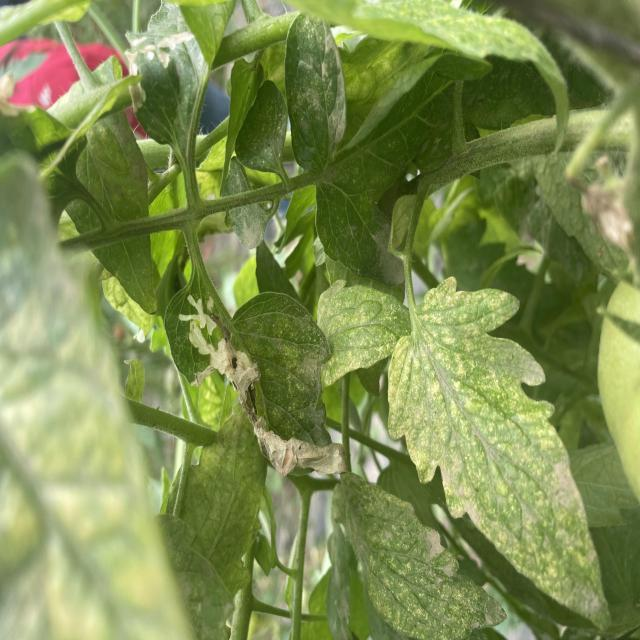Tuta absoluta: (147, 288, 268, 418), (141, 17, 196, 72)
